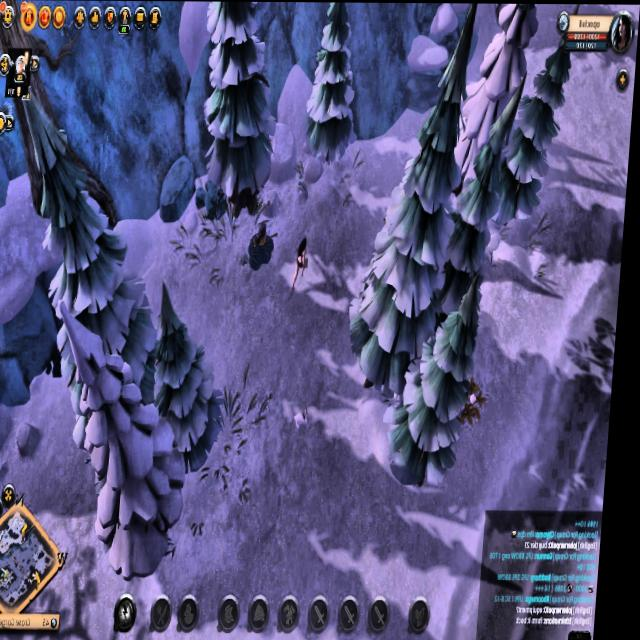copper_ore: (245, 220, 282, 267)
